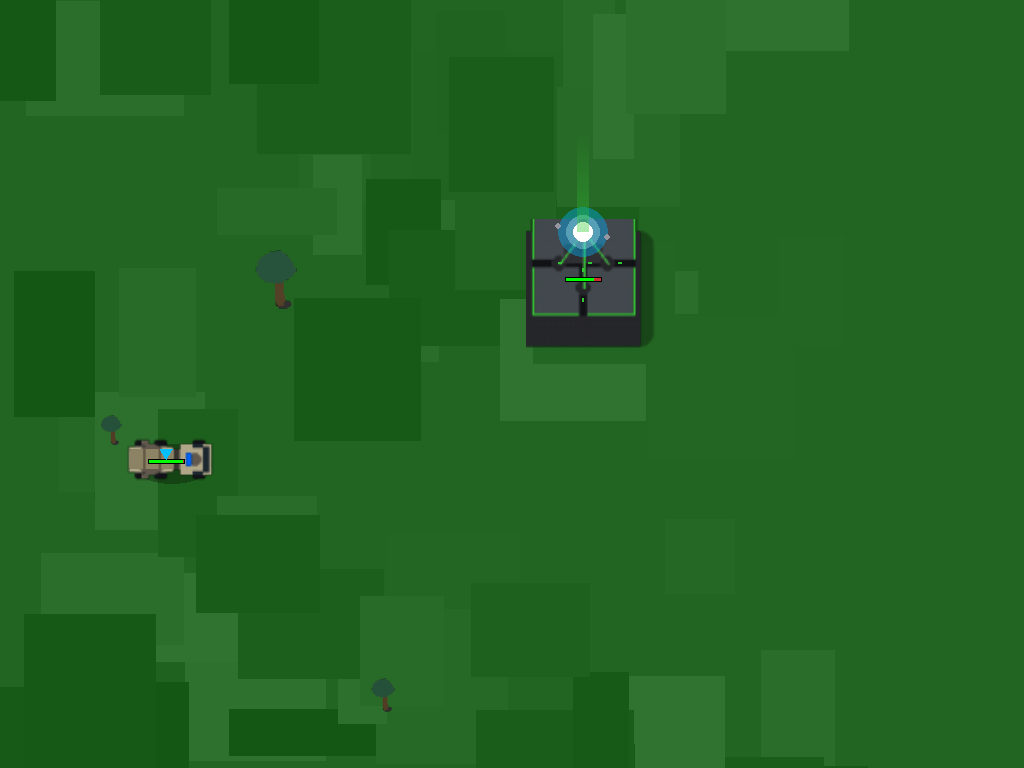ArmoredCar: (128, 420, 203, 495)
Lake: (520, 213, 645, 338)
